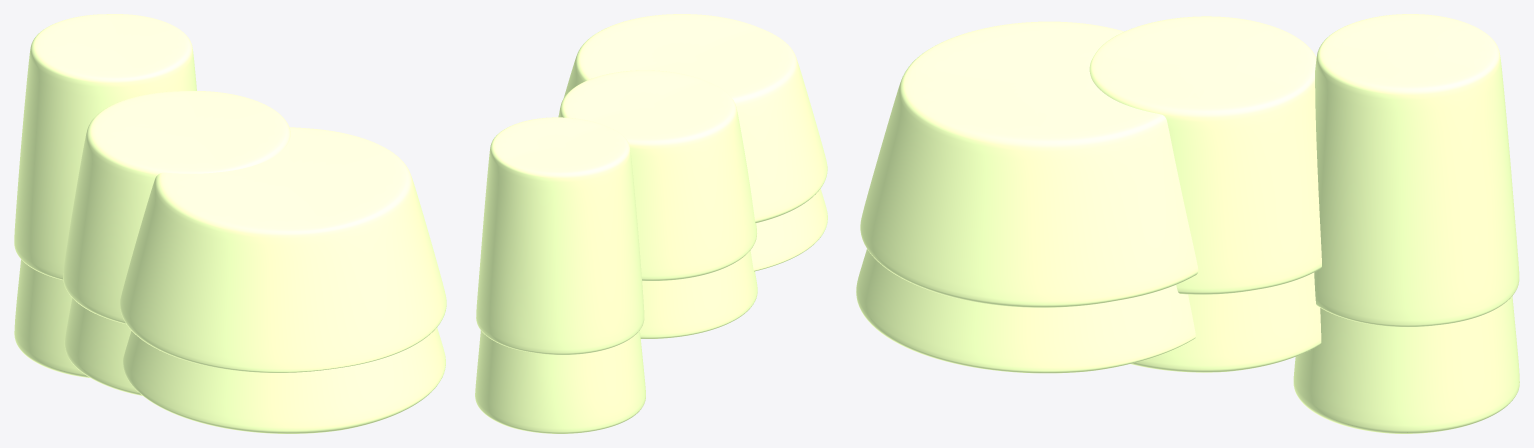
The model's file is sponge-barrel-yellow-01.glb.
3 views of the same model, side by side, from view 1: azimuth 30°, elevation 25°; view 2: azimuth 150°, elevation 25°; view 3: azimuth 270°, elevation 25° (orthographic). The views are drawn at different scales.
Visible parts, largest first — view 1: sponge-barrel-yellow-01.barrel0, sponge-barrel-yellow-01.barrel2, sponge-barrel-yellow-01.barrel1; view 2: sponge-barrel-yellow-01.barrel2, sponge-barrel-yellow-01.barrel1, sponge-barrel-yellow-01.barrel0; view 3: sponge-barrel-yellow-01.barrel0, sponge-barrel-yellow-01.barrel2, sponge-barrel-yellow-01.barrel1.
Part boxes in pixels (bbox=[...]): sponge-barrel-yellow-01.barrel0: bbox=[120, 127, 446, 433]; sponge-barrel-yellow-01.barrel2: bbox=[14, 14, 196, 377]; sponge-barrel-yellow-01.barrel1: bbox=[63, 91, 290, 395]; sponge-barrel-yellow-01.barrel2: bbox=[475, 117, 645, 433]; sponge-barrel-yellow-01.barrel1: bbox=[558, 70, 757, 338]; sponge-barrel-yellow-01.barrel0: bbox=[564, 14, 827, 271]; sponge-barrel-yellow-01.barrel0: bbox=[856, 21, 1198, 373]; sponge-barrel-yellow-01.barrel2: bbox=[1293, 14, 1519, 433]; sponge-barrel-yellow-01.barrel1: bbox=[1089, 16, 1321, 372].
Size of the model in its own units: 1.29 by 1.29 by 2.29.
